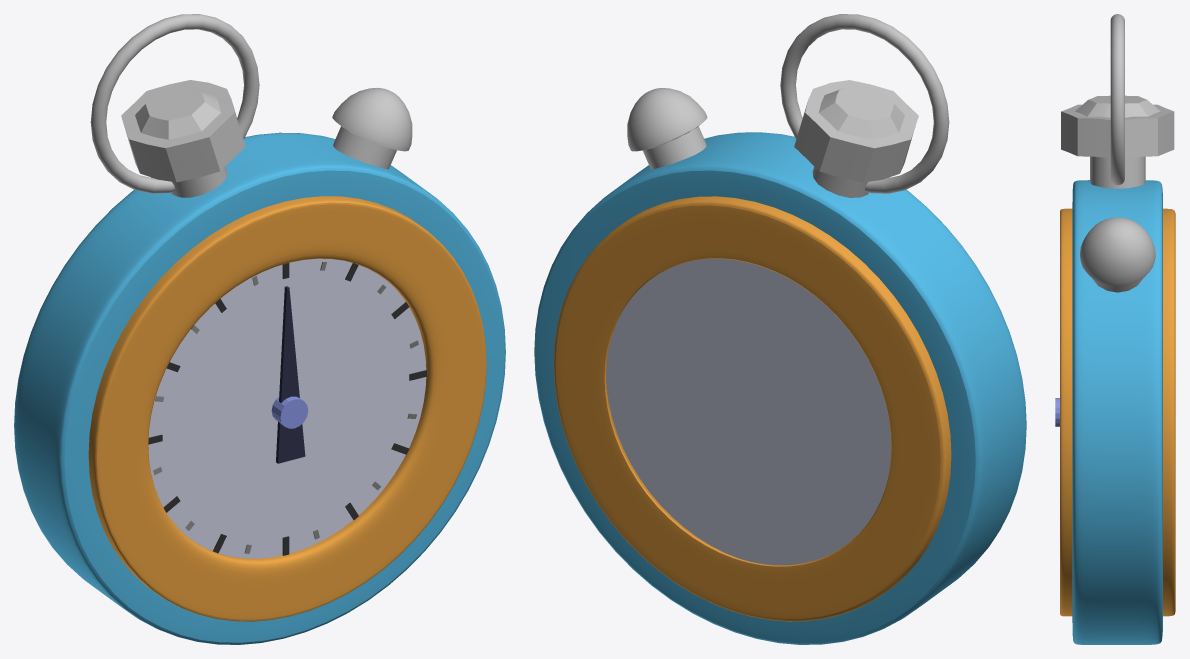
The model's file is TIMER.fbx.
3 renders of one model, left to right at view 1: azimuth 30°, elevation 25°; view 2: azimuth 150°, elevation 25°; view 3: azimuth 270°, elevation 25°, orthographic. The views are drawn at different scales.
Visible parts, largest first — view 1: Cylinder.001, Cylinder, Cylinder.007, Cylinder.003, Torus, Cylinder.005, Cube, Cube.001, Cylinder.004, Cylinder.006, Cylinder.002; view 2: Cylinder.007, Cylinder.001, Cylinder, Cylinder.003, Torus, Cylinder.005, Cylinder.004, Cylinder.002; view 3: Cylinder, Cylinder.001, Cylinder.003, Cylinder.005, Torus, Cylinder.002, Cylinder.004.
Boxes of the visible parts, box(x1,y1,x2,y2) form: Cylinder.001: box(88, 196, 486, 621); Cylinder: box(14, 132, 505, 644); Cylinder.007: box(148, 258, 426, 558); Cylinder.003: box(121, 80, 245, 182); Torus: box(90, 14, 259, 193); Cylinder.005: box(332, 87, 412, 151); Cube: box(276, 286, 305, 463); Cube.001: box(148, 263, 426, 555); Cylinder.004: box(333, 126, 396, 169); Cylinder.006: box(271, 396, 308, 428); Cylinder.002: box(171, 166, 227, 197); Cylinder.007: box(606, 258, 891, 565); Cylinder.001: box(553, 196, 951, 621); Cylinder: box(534, 132, 1026, 644); Cylinder.003: box(794, 80, 918, 182); Torus: box(780, 14, 949, 193); Cylinder.005: box(627, 88, 707, 151); Cylinder.004: box(642, 126, 706, 169); Cylinder.002: box(812, 166, 868, 197); Cylinder: box(1072, 180, 1162, 644); Cylinder.001: box(1060, 208, 1175, 616); Cylinder.003: box(1061, 95, 1174, 158); Cylinder.005: box(1080, 217, 1155, 285); Torus: box(1110, 14, 1124, 185); Cylinder.002: box(1090, 156, 1145, 188); Cylinder.004: box(1092, 278, 1143, 292).
Bounding box in the file's own units: 195 × 261 × 50.47.
